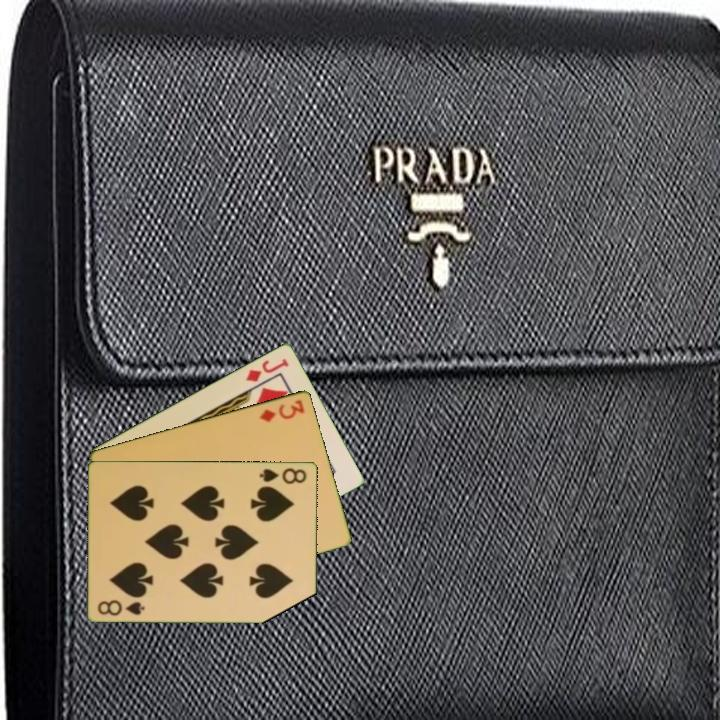3d: (256, 396, 308, 425)
8s: (256, 464, 310, 487), (94, 596, 148, 618)
Jd: (242, 354, 292, 385)
